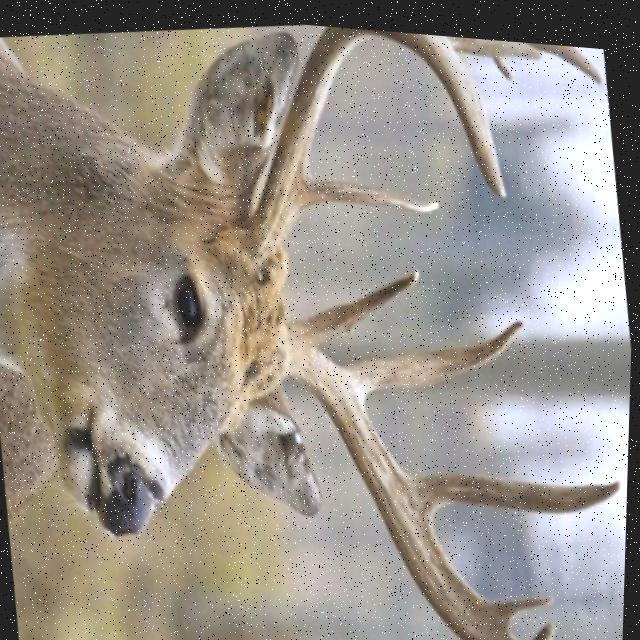E1: (493, 585, 557, 616)
L-F: (222, 21, 508, 274)
L-G1: (303, 168, 440, 206)
R-G1: (287, 260, 421, 341)
R-G2: (342, 310, 524, 392)
R-G3: (411, 466, 623, 509)
